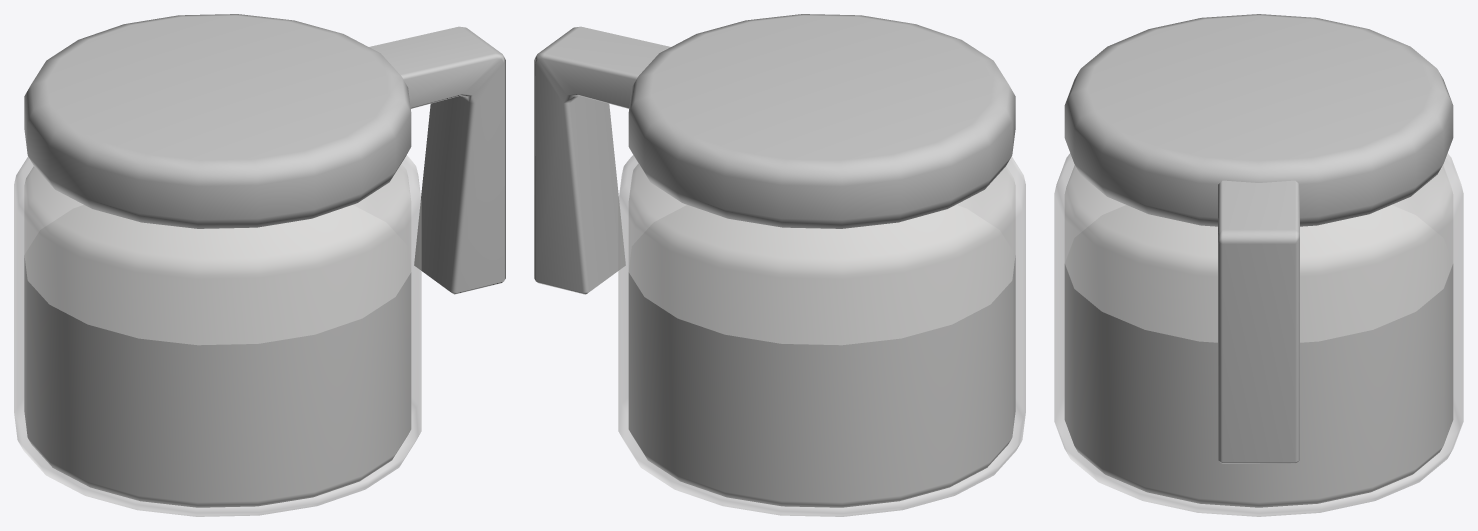
Rendered from Coffee_Pot_1.fbx.
The picture shows the model from 3 angles, left to right: view 1: azimuth 30°, elevation 25°; view 2: azimuth 150°, elevation 25°; view 3: azimuth 270°, elevation 25°; orthographic projection.
Parts seen in each view (by area): view 1: Coffee_Pot_1; view 2: Coffee_Pot_1; view 3: Coffee_Pot_1.
Boxes of the visible parts, bbox=[...] form: Coffee_Pot_1: bbox=[14, 14, 505, 516]; Coffee_Pot_1: bbox=[534, 14, 1025, 516]; Coffee_Pot_1: bbox=[1054, 14, 1463, 516].
Size of the model in its own units: 24.16 by 18.07 by 19.17.
